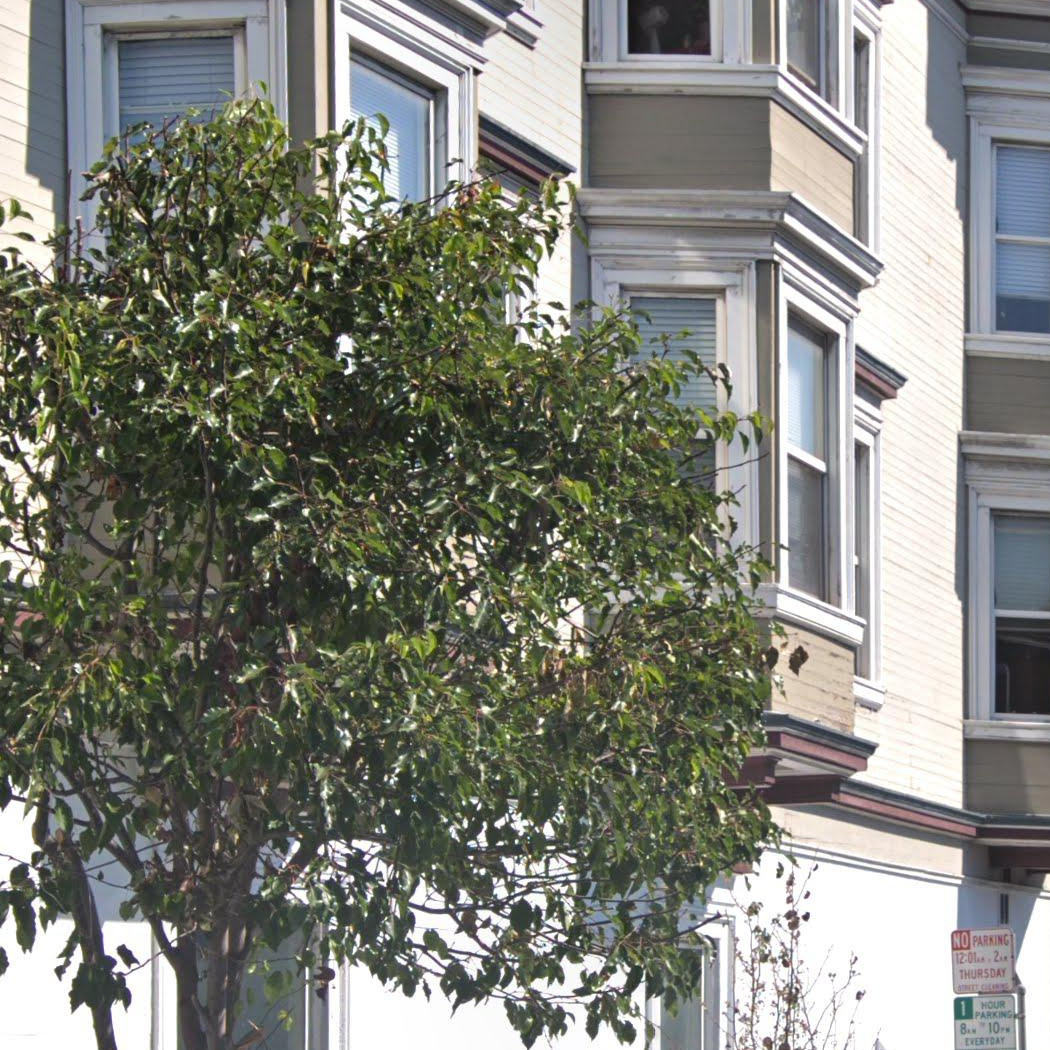1 Hour Parking: (953, 994, 1018, 1050)
No Parking: (950, 927, 1016, 993)
